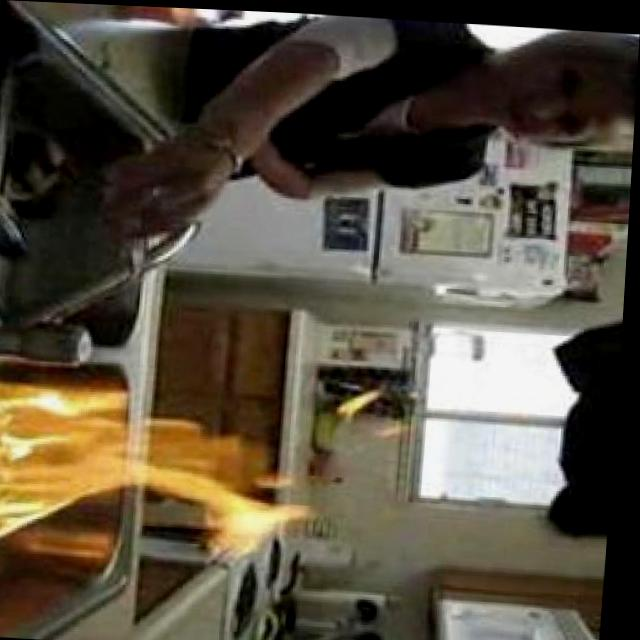Fire: (0, 369, 305, 569), (339, 387, 406, 439)
